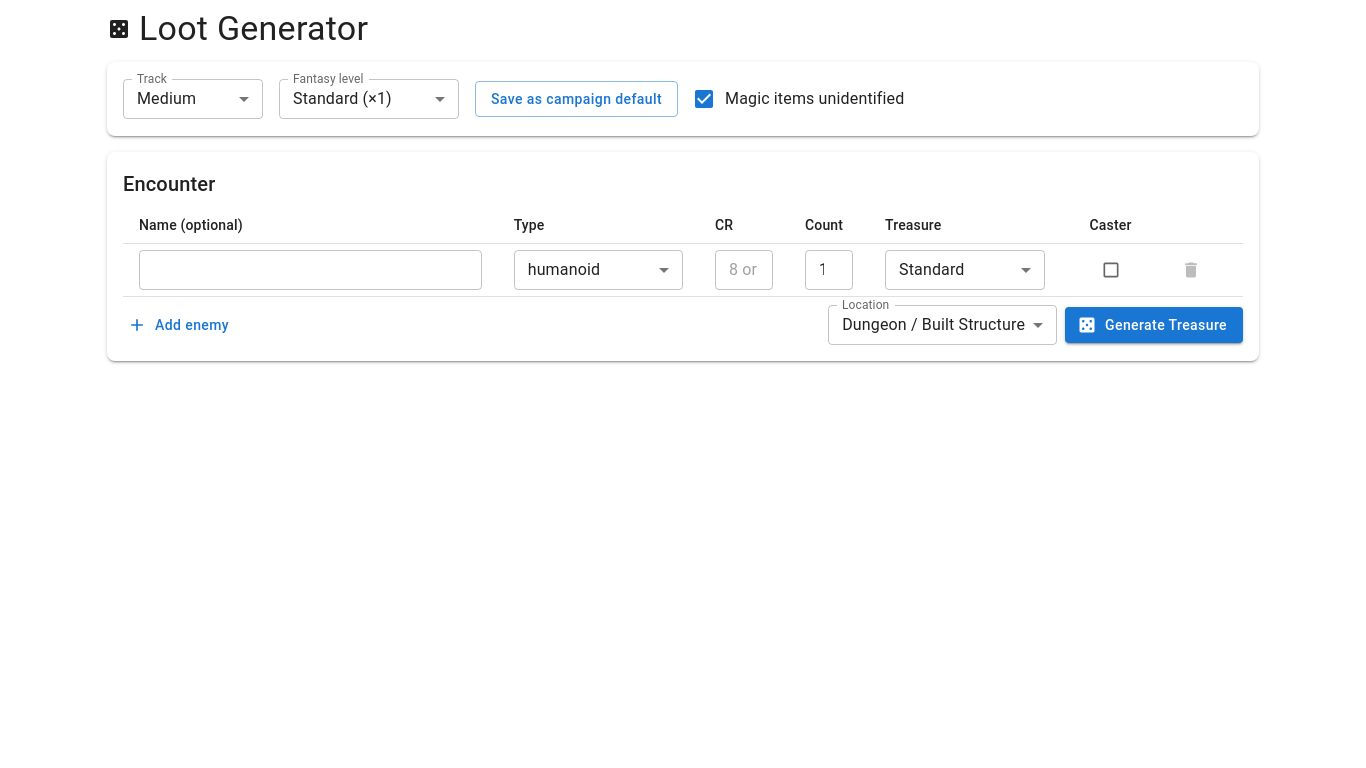
LootGenerator › commits the preview to pending loot
What coordinates should you click on to do the following:
click the button "Generate Treasure"
I would click on:
 (1154, 325)
Its box is [1065,307,1243,343].
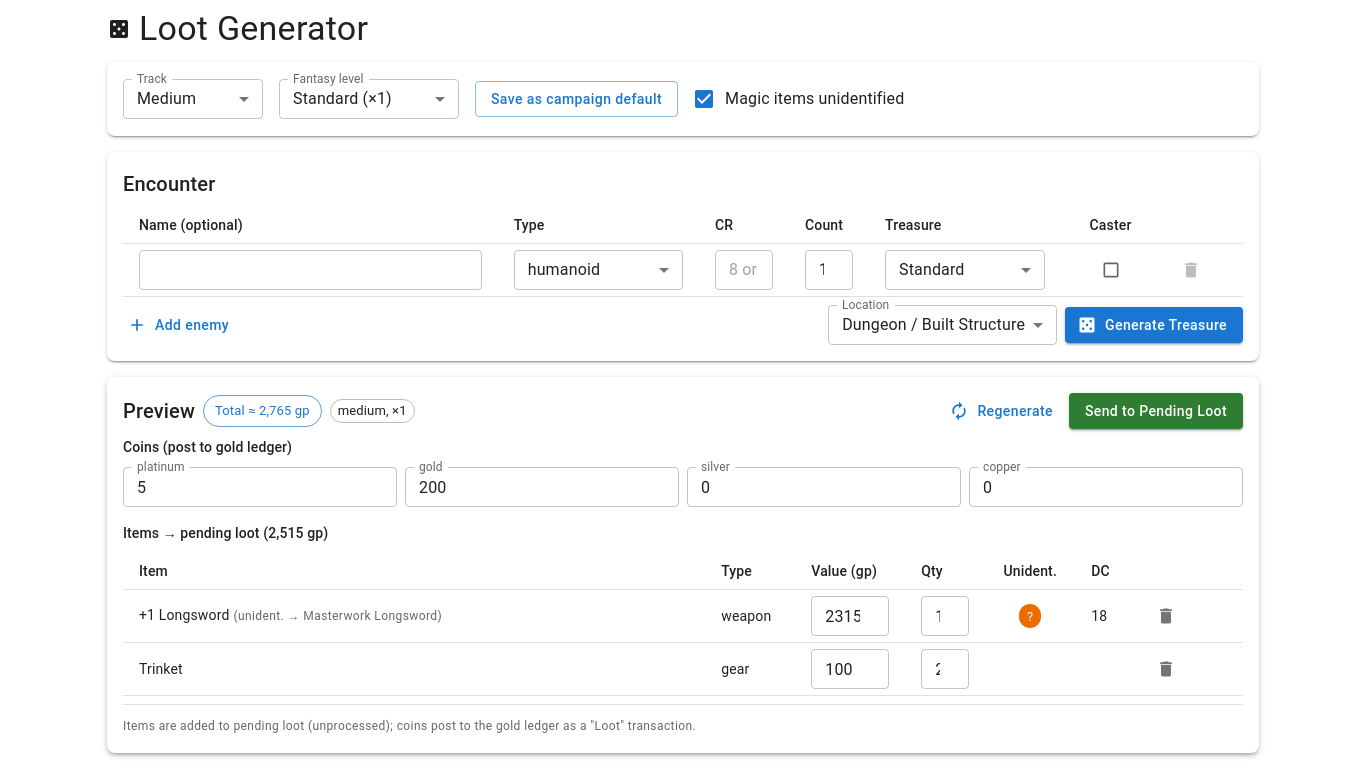
Result: the text "+1 Longsword" is shown at [139,607,230,623]
What coordinates should you click on to do the following:
click the button "Send to Pending Loot"
I would click on:
 (1156, 411)
Its box is [1069,393,1243,429].
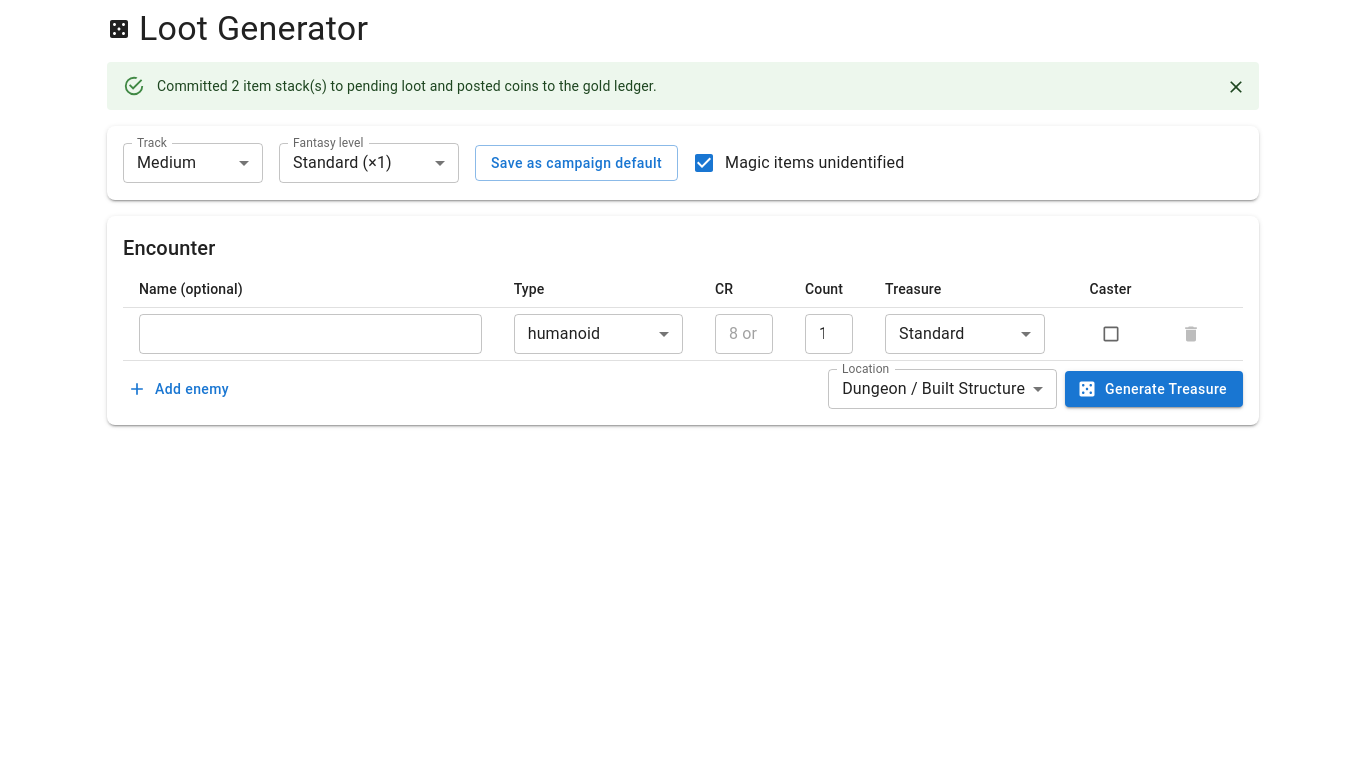
Result: the text "Committed 2 item stack" is shown at [157,78,657,94]
